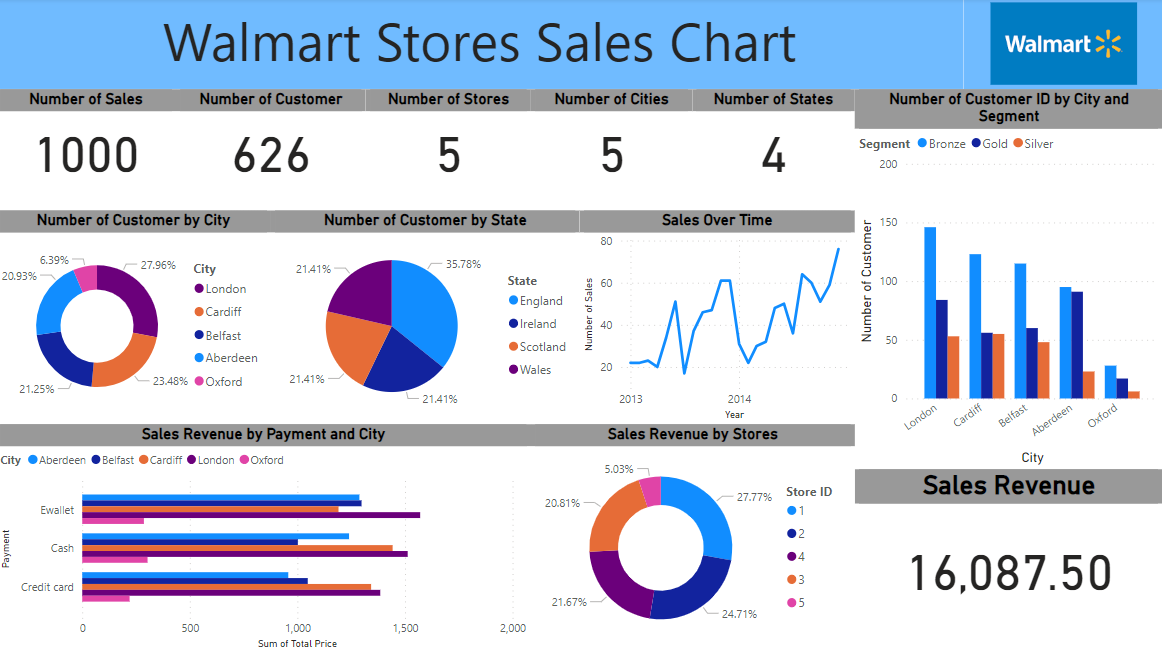

Layout of this report page (visuals, bound fields, positions):
{"tool":"powerbi","page":{"name":"Page 1","canvas":[1280,720],"ordinal":0},"visuals":[{"type":"card","title":"Number of Sales","fields":{"Values":["Count(Sheet1.Invoice ID)"]},"box":[0,100.1,197.4,133],"z":0},{"type":"card","title":"Number of Customer","fields":{"Values":["Count(Sheet1.Customer ID)"]},"box":[197.4,100.1,208.4,133],"z":1000},{"type":"card","title":"Number of States","fields":{"Values":["Count(Sheet1.State)"]},"box":[763.7,100.1,178.2,133],"z":2000},{"type":"card","title":"Number of Cities","fields":{"Values":["Count(Sheet1.City)"]},"box":[586.8,100.1,176.9,133],"z":3000},{"type":"card","title":"Number of Stores","fields":{"Values":["Count(Sheet1.Store ID)"]},"box":[405.8,100.1,181,133],"z":4000},{"type":"donutChart","title":"Number of Customer by City","fields":{"Category":["Sheet1.City"],"Y":["Count(Sheet1.Customer ID)"]},"box":[0,233.1,301.6,234.4],"z":5000},{"type":"pieChart","title":"Number of Customer by State","fields":{"Y":["Count(Sheet1.Customer ID)"],"Category":["Sheet1.State"]},"box":[301.6,233.1,338.6,234.4],"z":6000},{"type":"textbox","box":[0,1.4,1061.2,98.7],"z":7000},{"type":"image","box":[1061.2,0,219.4,100.1],"z":8000},{"type":"clusteredColumnChart","title":"Number of Customer ID by City and Segment","fields":{"Y":["CountNonNull(Sheet1.Customer ID)"],"Category":["Sheet1.City"],"Series":["Sheet1.Segment"]},"box":[941.9,100.1,338.6,416.8],"z":9000},{"type":"lineChart","title":"Sales Over Time","fields":{"Y":["CountNonNull(Sheet1.Invoice ID)"],"Category":["Sheet1.Order Date.Variation.Date Hierarchy.Year","Sheet1.Order Date.Variation.Date Hierarchy.Quarter","Sheet1.Order Date.Variation.Date Hierarchy.Month"]},"box":[640.3,233.1,301.6,234.4],"z":10000},{"type":"card","title":"Sales Revenue","fields":{"Values":["Sum(Sheet1.Total Price )"]},"box":[941.9,516.9,338.6,202.9],"z":11000},{"type":"clusteredBarChart","title":"Sales Revenue  by Payment and City","fields":{"Category":["Sheet1.Payment"],"Y":["Sum(Sheet1.Total Price )"],"Series":["Sheet1.City"]},"box":[0,467.5,586.8,252.3],"z":11001},{"type":"donutChart","title":"Sales Revenue by Stores","fields":{"Category":["Sheet1.Store ID"],"Y":["Sum(Sheet1.Total Price )"]},"box":[586.8,467.5,355.1,252.3],"z":11002}]}

Visuals, with their boxes in screenshot pixels (x1, y1, x2, y2), scaled from the page's 1280x720 canvas onto the 1162x653 screenshot:
"Number of Sales" card: rect(0, 91, 179, 211)
"Number of Customer" card: rect(179, 91, 368, 211)
"Number of States" card: rect(693, 91, 855, 211)
"Number of Cities" card: rect(533, 91, 693, 211)
"Number of Stores" card: rect(368, 91, 533, 211)
"Number of Customer by City" donutChart: rect(0, 211, 274, 424)
"Number of Customer by State" pieChart: rect(274, 211, 581, 424)
textbox: rect(0, 1, 963, 91)
image: rect(963, 0, 1161, 91)
"Number of Customer ID by City and Segment" clusteredColumnChart: rect(855, 91, 1161, 469)
"Sales Over Time" lineChart: rect(581, 211, 855, 424)
"Sales Revenue" card: rect(855, 469, 1161, 652)
"Sales Revenue  by Payment and City" clusteredBarChart: rect(0, 424, 533, 652)
"Sales Revenue by Stores" donutChart: rect(533, 424, 855, 652)
